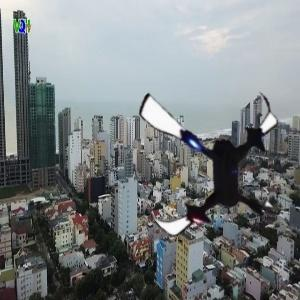drone: (119, 72, 297, 250)
